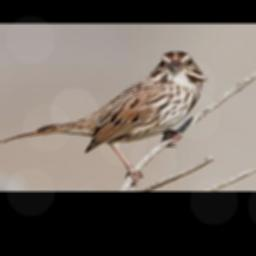Sparrow: (0, 49, 210, 186)
